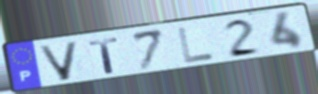2: (220, 18, 262, 59)
4: (268, 9, 306, 53)
7: (131, 27, 166, 73)
L: (176, 26, 217, 65)
T: (87, 36, 122, 75)
V: (36, 40, 81, 83)
